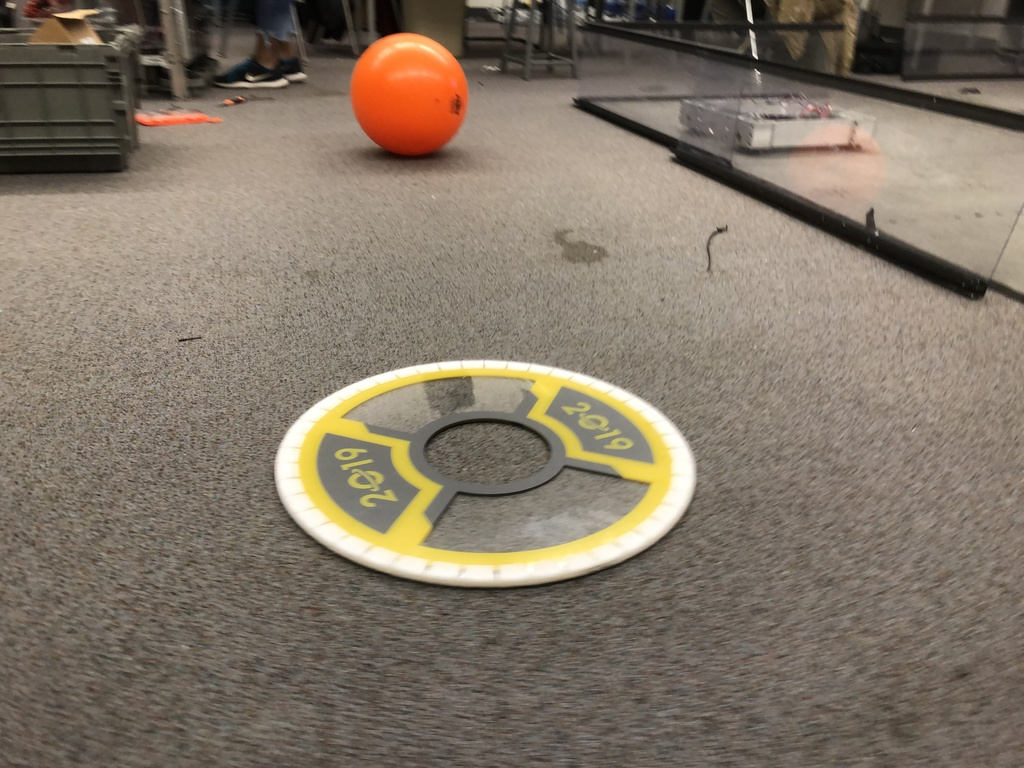hatch_panel: (262, 344, 730, 601)
